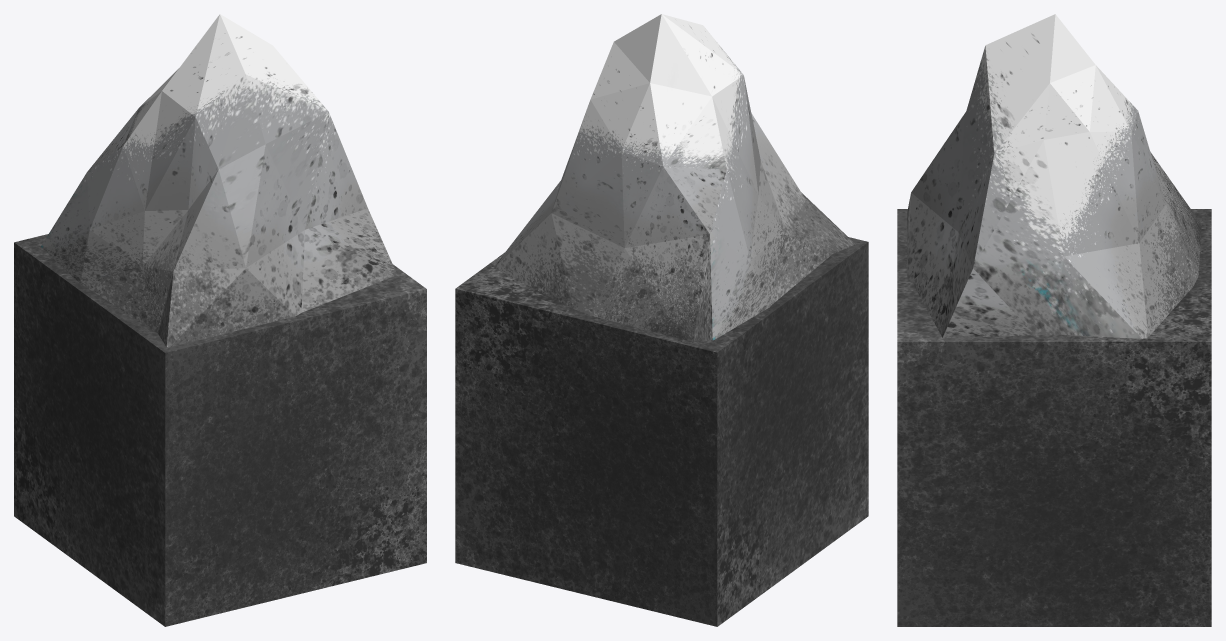
File: Gorski tile 2.fbx
3 views of the same model, side by side, from view 1: azimuth 30°, elevation 25°; view 2: azimuth 150°, elevation 25°; view 3: azimuth 270°, elevation 25° (orthographic). The views are drawn at different scales.
Visible parts, largest first — view 1: Icosphere.001; view 2: Icosphere.001; view 3: Icosphere.001.
Part boxes in pixels (left/top/right/bottom): Icosphere.001: left=14, top=14, right=426, bottom=626; Icosphere.001: left=455, top=14, right=868, bottom=626; Icosphere.001: left=897, top=14, right=1211, bottom=626.
Size of the model in its own units: 200 by 384 by 200.
